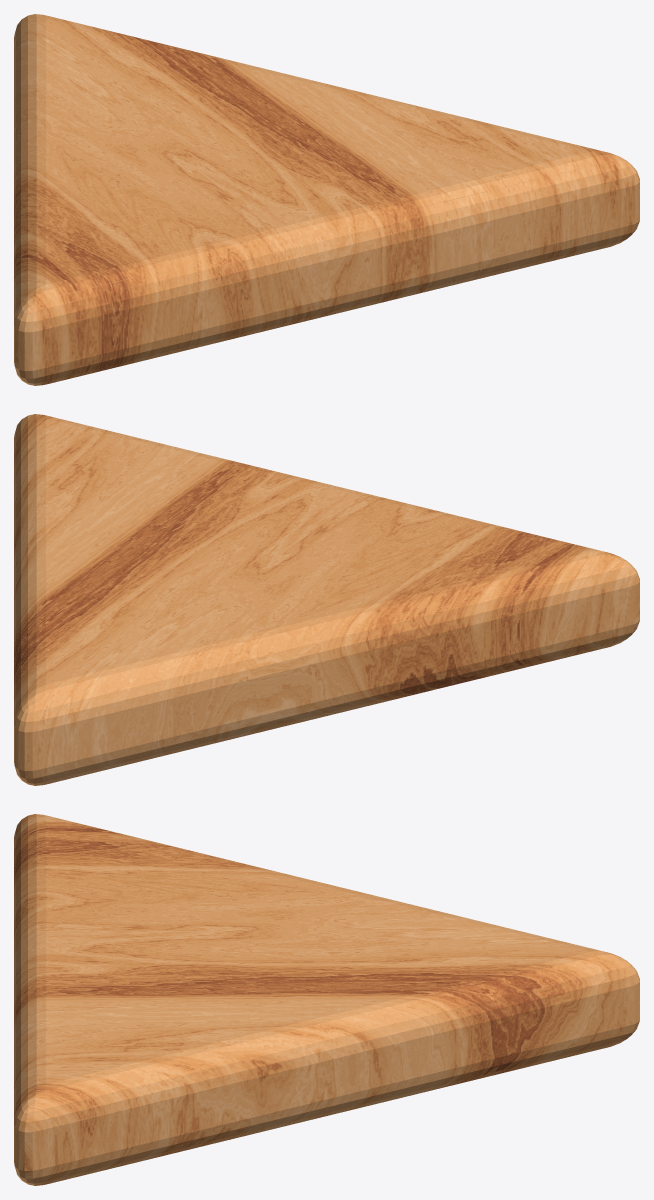
Rendered from FieldL.fbx.
The picture shows the model from 3 angles, top to bottom: view 1: azimuth 30°, elevation 25°; view 2: azimuth 150°, elevation 25°; view 3: azimuth 270°, elevation 25°; orthographic projection.
Parts seen in each view (by area): view 1: Cylinder; view 2: Cylinder; view 3: Cylinder.
Boxes of the visible parts, box(x1,y1,x2,y2) form: Cylinder: box(14, 14, 639, 385); Cylinder: box(14, 414, 639, 785); Cylinder: box(14, 814, 639, 1185).
Bounding box in the file's own units: 67.18 × 10 × 58.59.
1 material, 1 textured.
